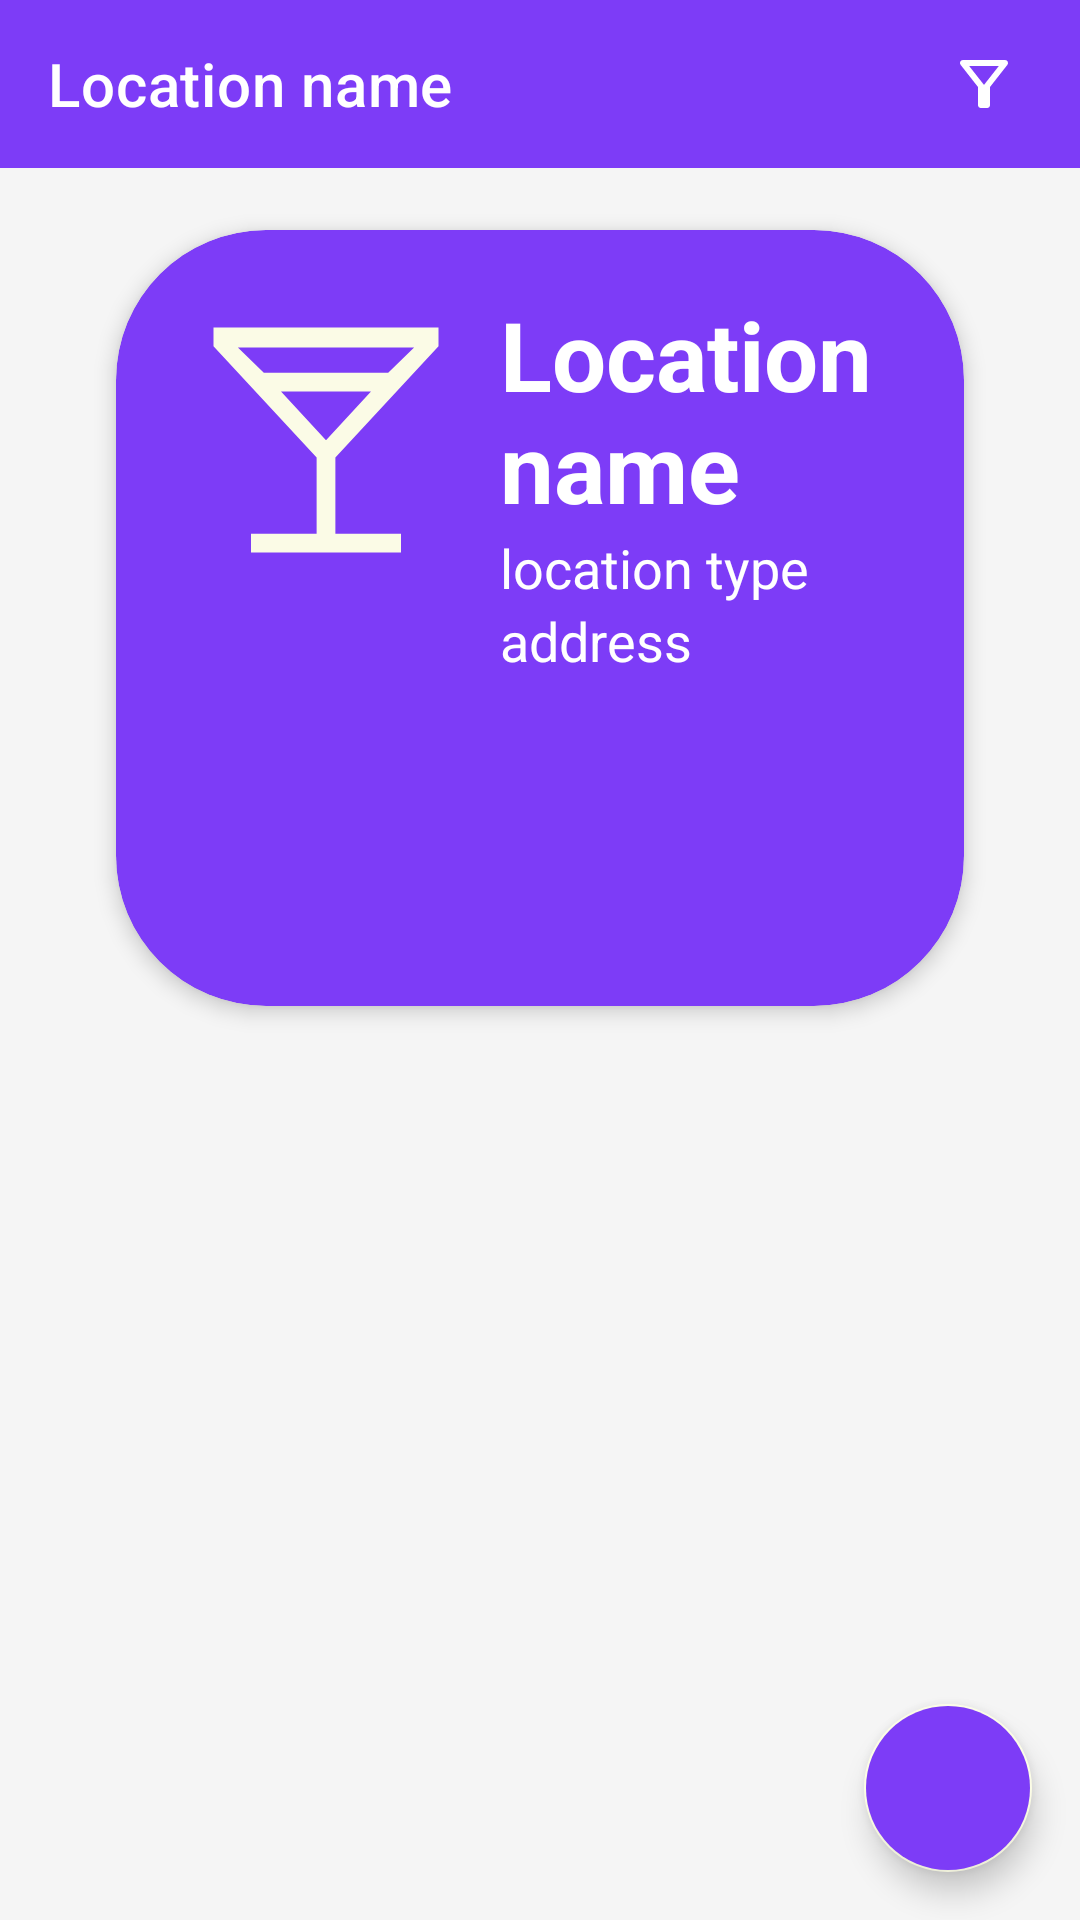

Point at icon controls on the screen. Image size 1080px x 1920px, points as point (x, y).
bar: point (326, 440)
filter: point (984, 84)
